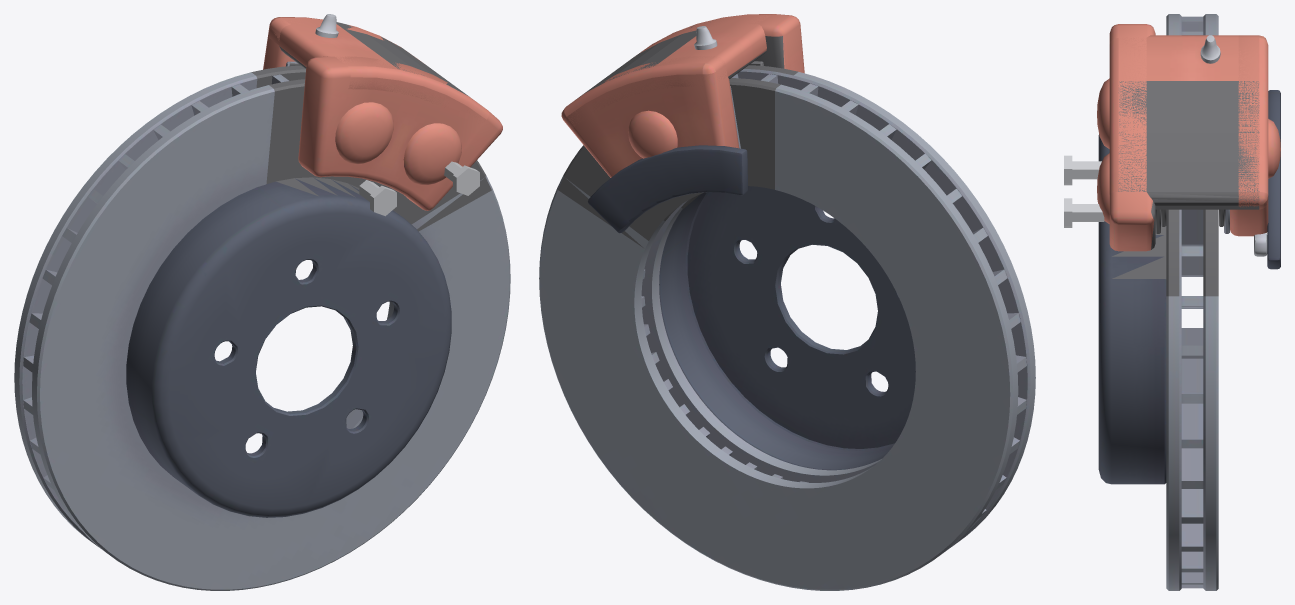
Rendered from BrakeAssembly.fbx.
3 renders of one model, left to right at view 1: azimuth 30°, elevation 25°; view 2: azimuth 150°, elevation 25°; view 3: azimuth 270°, elevation 25°, orthographic. The views are drawn at different scales.
Parts seen in each view (by area): view 1: brake_disc, brake_caliper, brake_pad_outer, brake_pad_inner, bolt_01, bolt_02; view 2: brake_disc, brake_caliper, brake_pad_inner, brake_pad_outer; view 3: brake_disc, brake_caliper, brake_pad_outer, brake_pad_inner, bolt_02, bolt_01.
Boxes of the visible parts, box(x1,y1,x2,y2) form: brake_disc: box(14, 72, 510, 590); brake_caliper: box(263, 14, 502, 210); brake_pad_outer: box(266, 33, 491, 231); brake_pad_inner: box(251, 22, 449, 87); bolt_01: box(359, 180, 396, 216); bolt_02: box(444, 161, 479, 195); brake_disc: box(539, 69, 1035, 590); brake_caliper: box(561, 14, 804, 233); brake_pad_inner: box(558, 25, 780, 247); brake_pad_outer: box(585, 30, 798, 209); brake_disc: box(1098, 14, 1218, 590); brake_caliper: box(1097, 24, 1280, 269); brake_pad_outer: box(1112, 81, 1257, 296); brake_pad_inner: box(1120, 81, 1259, 296); bolt_02: box(1064, 198, 1104, 227); bolt_01: box(1064, 155, 1101, 185).
Size of the model in its own units: 32 by 34.66 by 12.03.
3 materials, 1 textured.
